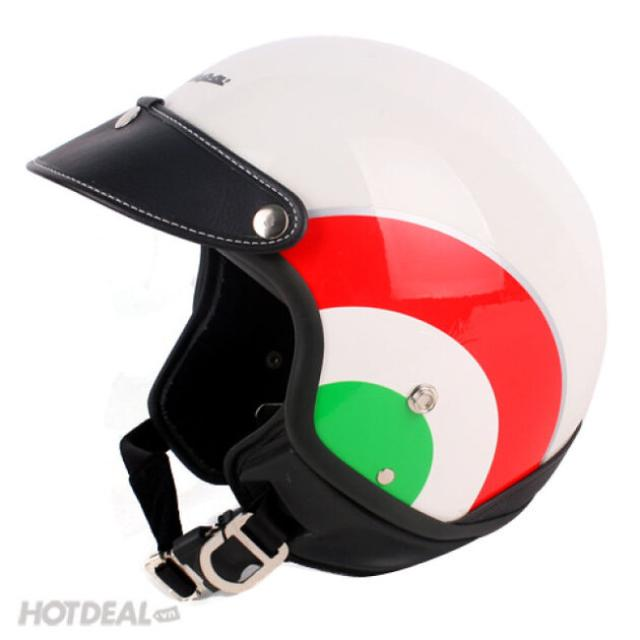Helmet: (6, 12, 620, 608)
